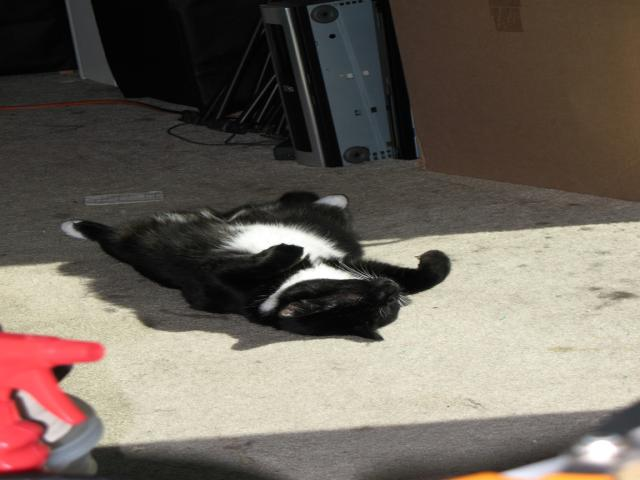Cat: (64, 191, 456, 339)
